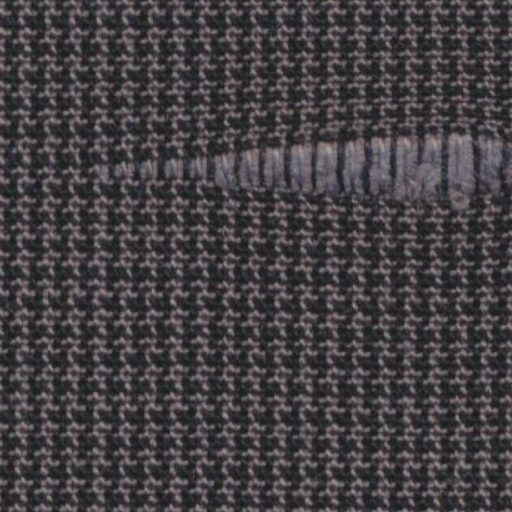DaiSha: (104, 124, 508, 215)
